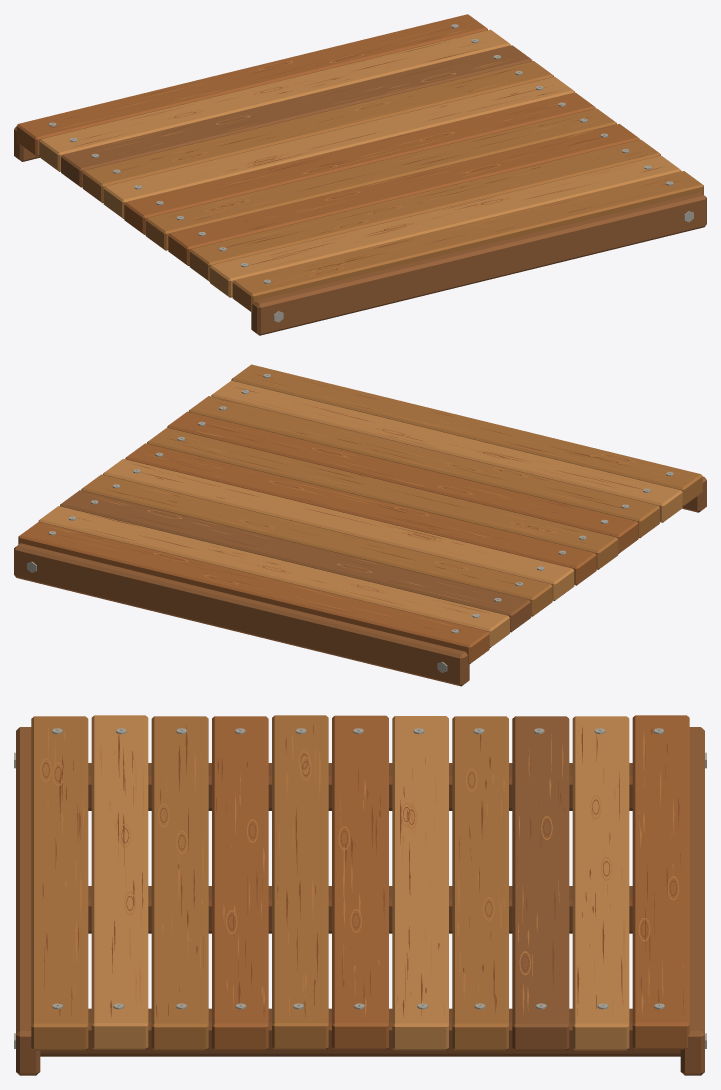
File: wsc-module-013-lookout-deck-bay.glb
3 views of the same model, one above another, from view 1: azimuth 30°, elevation 25°; view 2: azimuth 150°, elevation 25°; view 3: azimuth 270°, elevation 25° (orthographic). The views are drawn at different scales.
Parts seen in each view (by area): view 1: Honey hearth wood, Warm russet wood, Pale honey wood, Old cedar, Wood vein light, Wood vein dark, Zinc heads; view 2: Honey hearth wood, Warm russet wood, Pale honey wood, Old cedar, Wood vein light, Wood vein dark, Zinc heads; view 3: Honey hearth wood, Pale honey wood, Warm russet wood, Old cedar, Deck endgrain, Wood vein light, Wood vein dark, Zinc heads.
Part boxes in pixels (x1,y1,x2,y2): Honey hearth wood: [82, 61, 703, 312]; Warm russet wood: [16, 14, 639, 265]; Pale honey wood: [39, 29, 681, 297]; Old cedar: [14, 45, 706, 335]; Wood vein light: [59, 29, 654, 286]; Wood vein dark: [52, 19, 679, 274]; Zinc heads: [49, 24, 693, 322]; Honey hearth wood: [81, 364, 702, 616]; Warm russet wood: [18, 411, 638, 664]; Pale honey wood: [38, 380, 682, 647]; Old cedar: [14, 476, 706, 686]; Wood vein light: [48, 383, 679, 627]; Wood vein dark: [36, 374, 642, 630]; Zinc heads: [27, 374, 673, 672]; Honey hearth wood: [31, 715, 508, 1050]; Pale honey wood: [91, 715, 629, 1050]; Warm russet wood: [212, 715, 689, 1050]; Old cedar: [16, 716, 704, 1075]; Deck endgrain: [40, 729, 680, 1056]; Wood vein light: [40, 726, 683, 1017]; Wood vein dark: [42, 724, 683, 1017]; Zinc heads: [14, 728, 706, 1048].
Bounding box in the file's own units: 2.99 × 0.2646 × 2.82.
